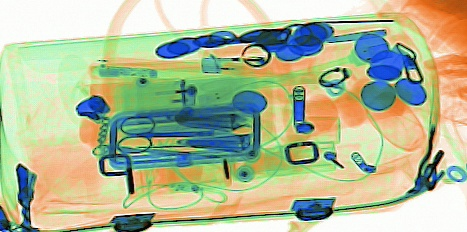lighter: (198, 51, 300, 79)
scissors: (114, 115, 232, 155)
